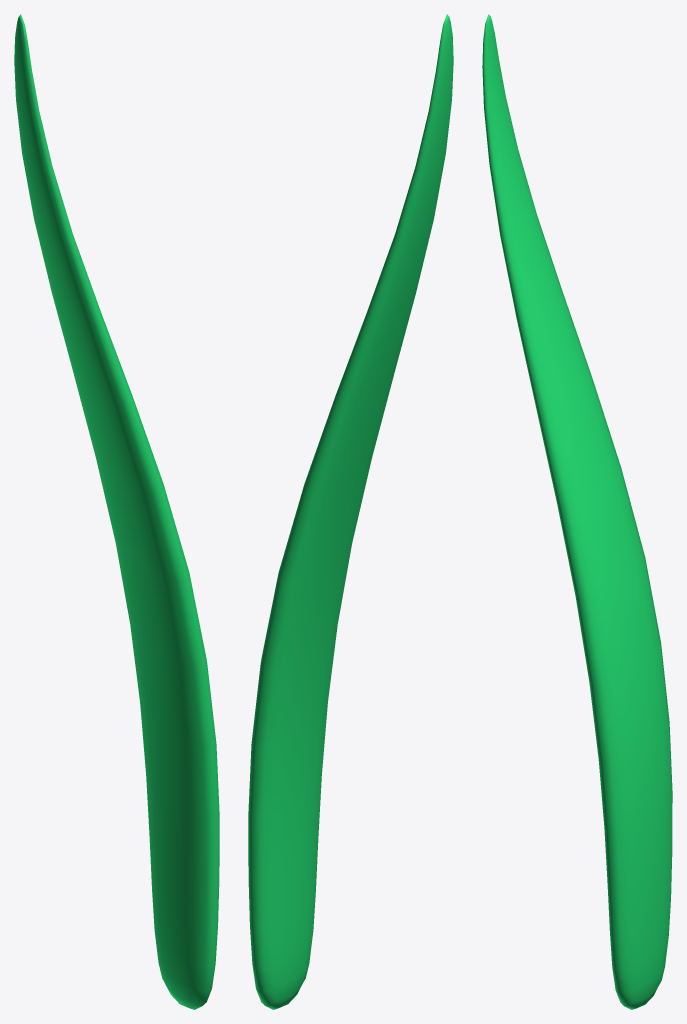
Rendered from Leaf.fbx_Leaf_1 1.fbx.
3 renders of one model, left to right at view 1: azimuth 30°, elevation 25°; view 2: azimuth 150°, elevation 25°; view 3: azimuth 330°, elevation 25°, orthographic. The views are drawn at different scales.
Visible parts, largest first — view 1: Leaf_LOD0; view 2: Leaf_LOD0; view 3: Leaf_LOD0.
Boxes of the visible parts, left/top/right/bottom form: Leaf_LOD0: left=14, top=14, right=219, bottom=1009; Leaf_LOD0: left=248, top=14, right=453, bottom=1009; Leaf_LOD0: left=482, top=14, right=672, bottom=1009.
Size of what is drawn, in the model's own units: 199 by 309 by 1668.
